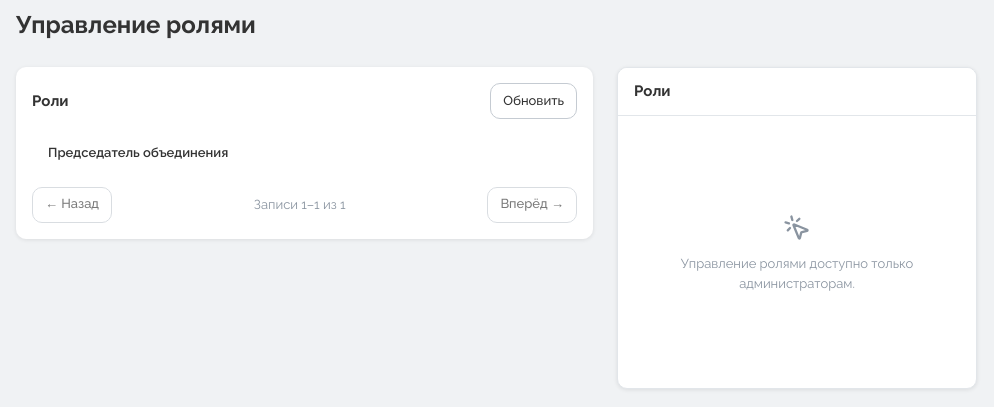
Scenario: RolesPage behavior › lets a non-admin inspect role details without edit actions
Click the list item with test id "role-item-role-chair": [138, 152] box [48, 145, 228, 160]
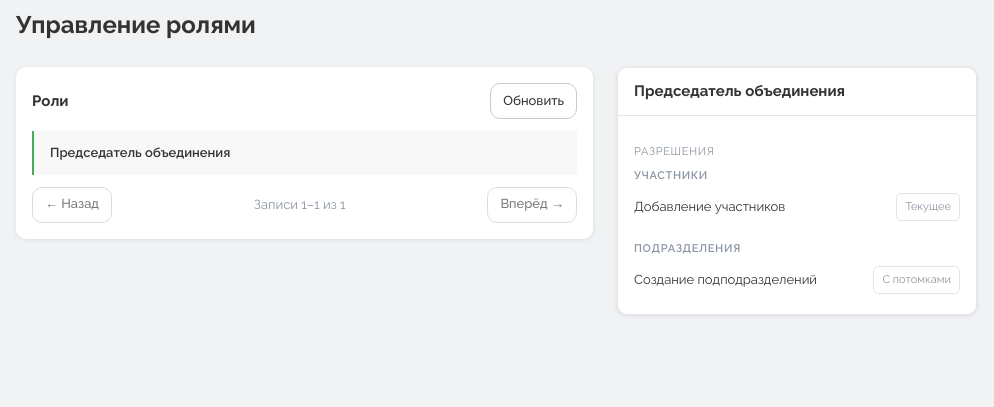
Check: the text "Добавление участников" is shown, box [634, 199, 785, 214]
Check: the text "Создание подподразделений" is shown, box [634, 272, 817, 287]
Check: the text "Текущее" is shown, box [896, 192, 960, 221]
